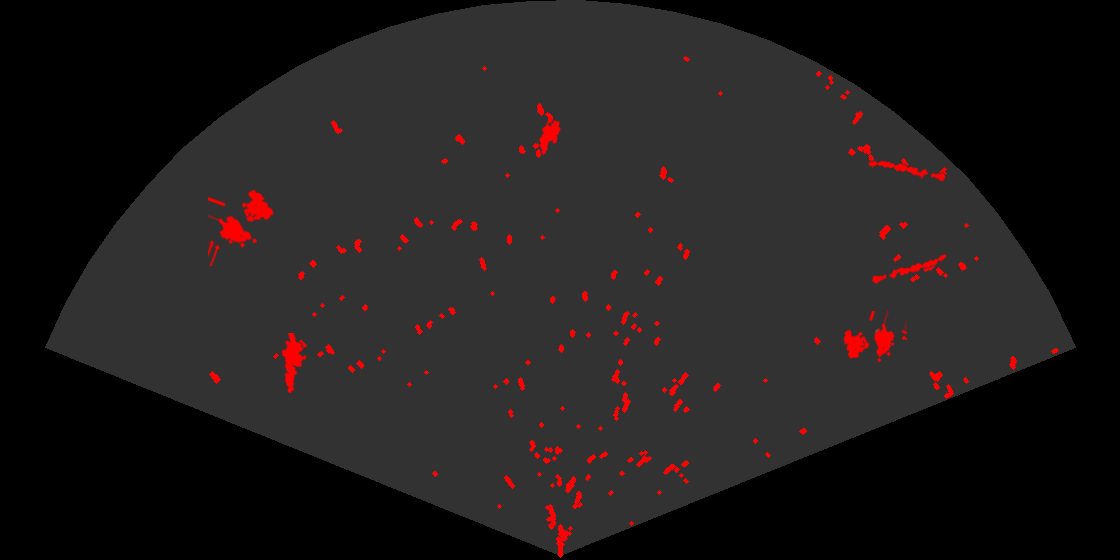AUV: (537, 118, 563, 157)
cage: (208, 188, 275, 266), (842, 311, 907, 364)
chain: (868, 253, 949, 286), (866, 159, 950, 183)
frogman: (280, 333, 308, 396)
